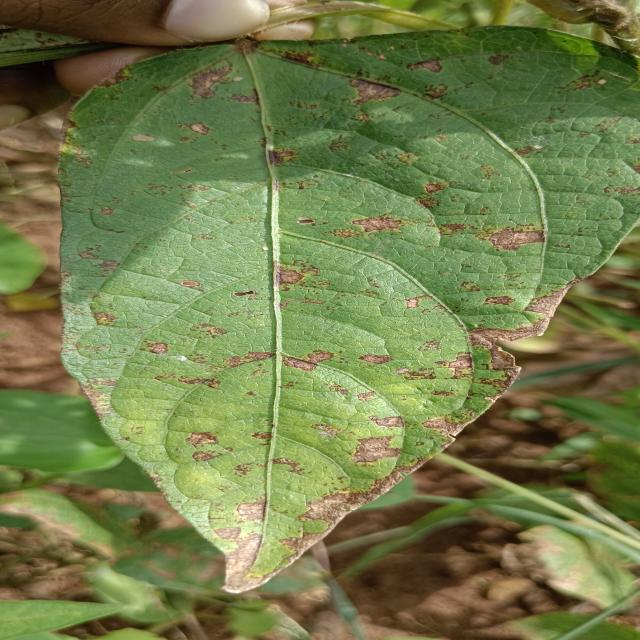Black gram_leaf spot: (21, 23, 640, 607)
